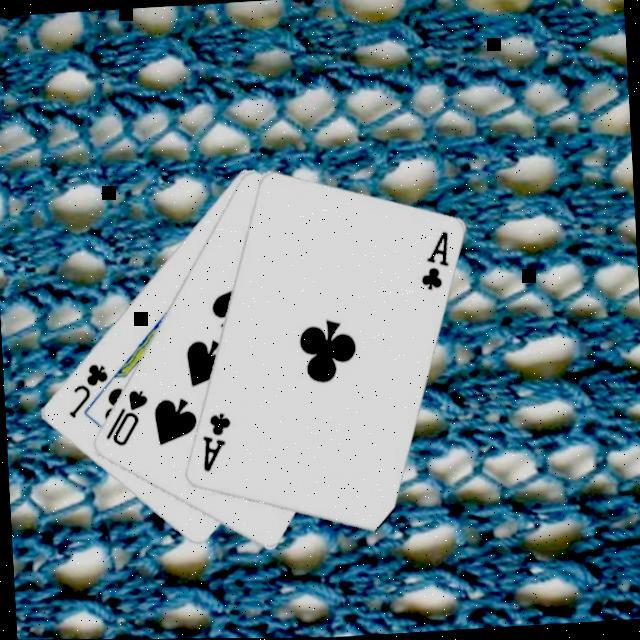10S: (98, 385, 151, 450)
AC: (195, 408, 234, 474), (413, 227, 452, 293)
JC: (60, 359, 111, 421)
